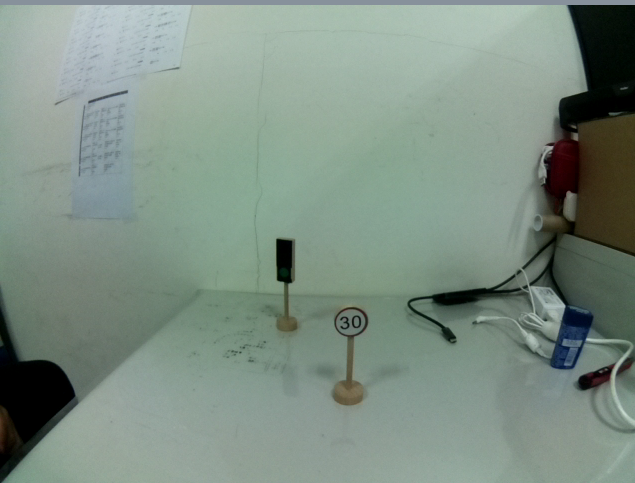Green: (272, 236, 300, 285)
Speed30: (330, 305, 371, 340)
